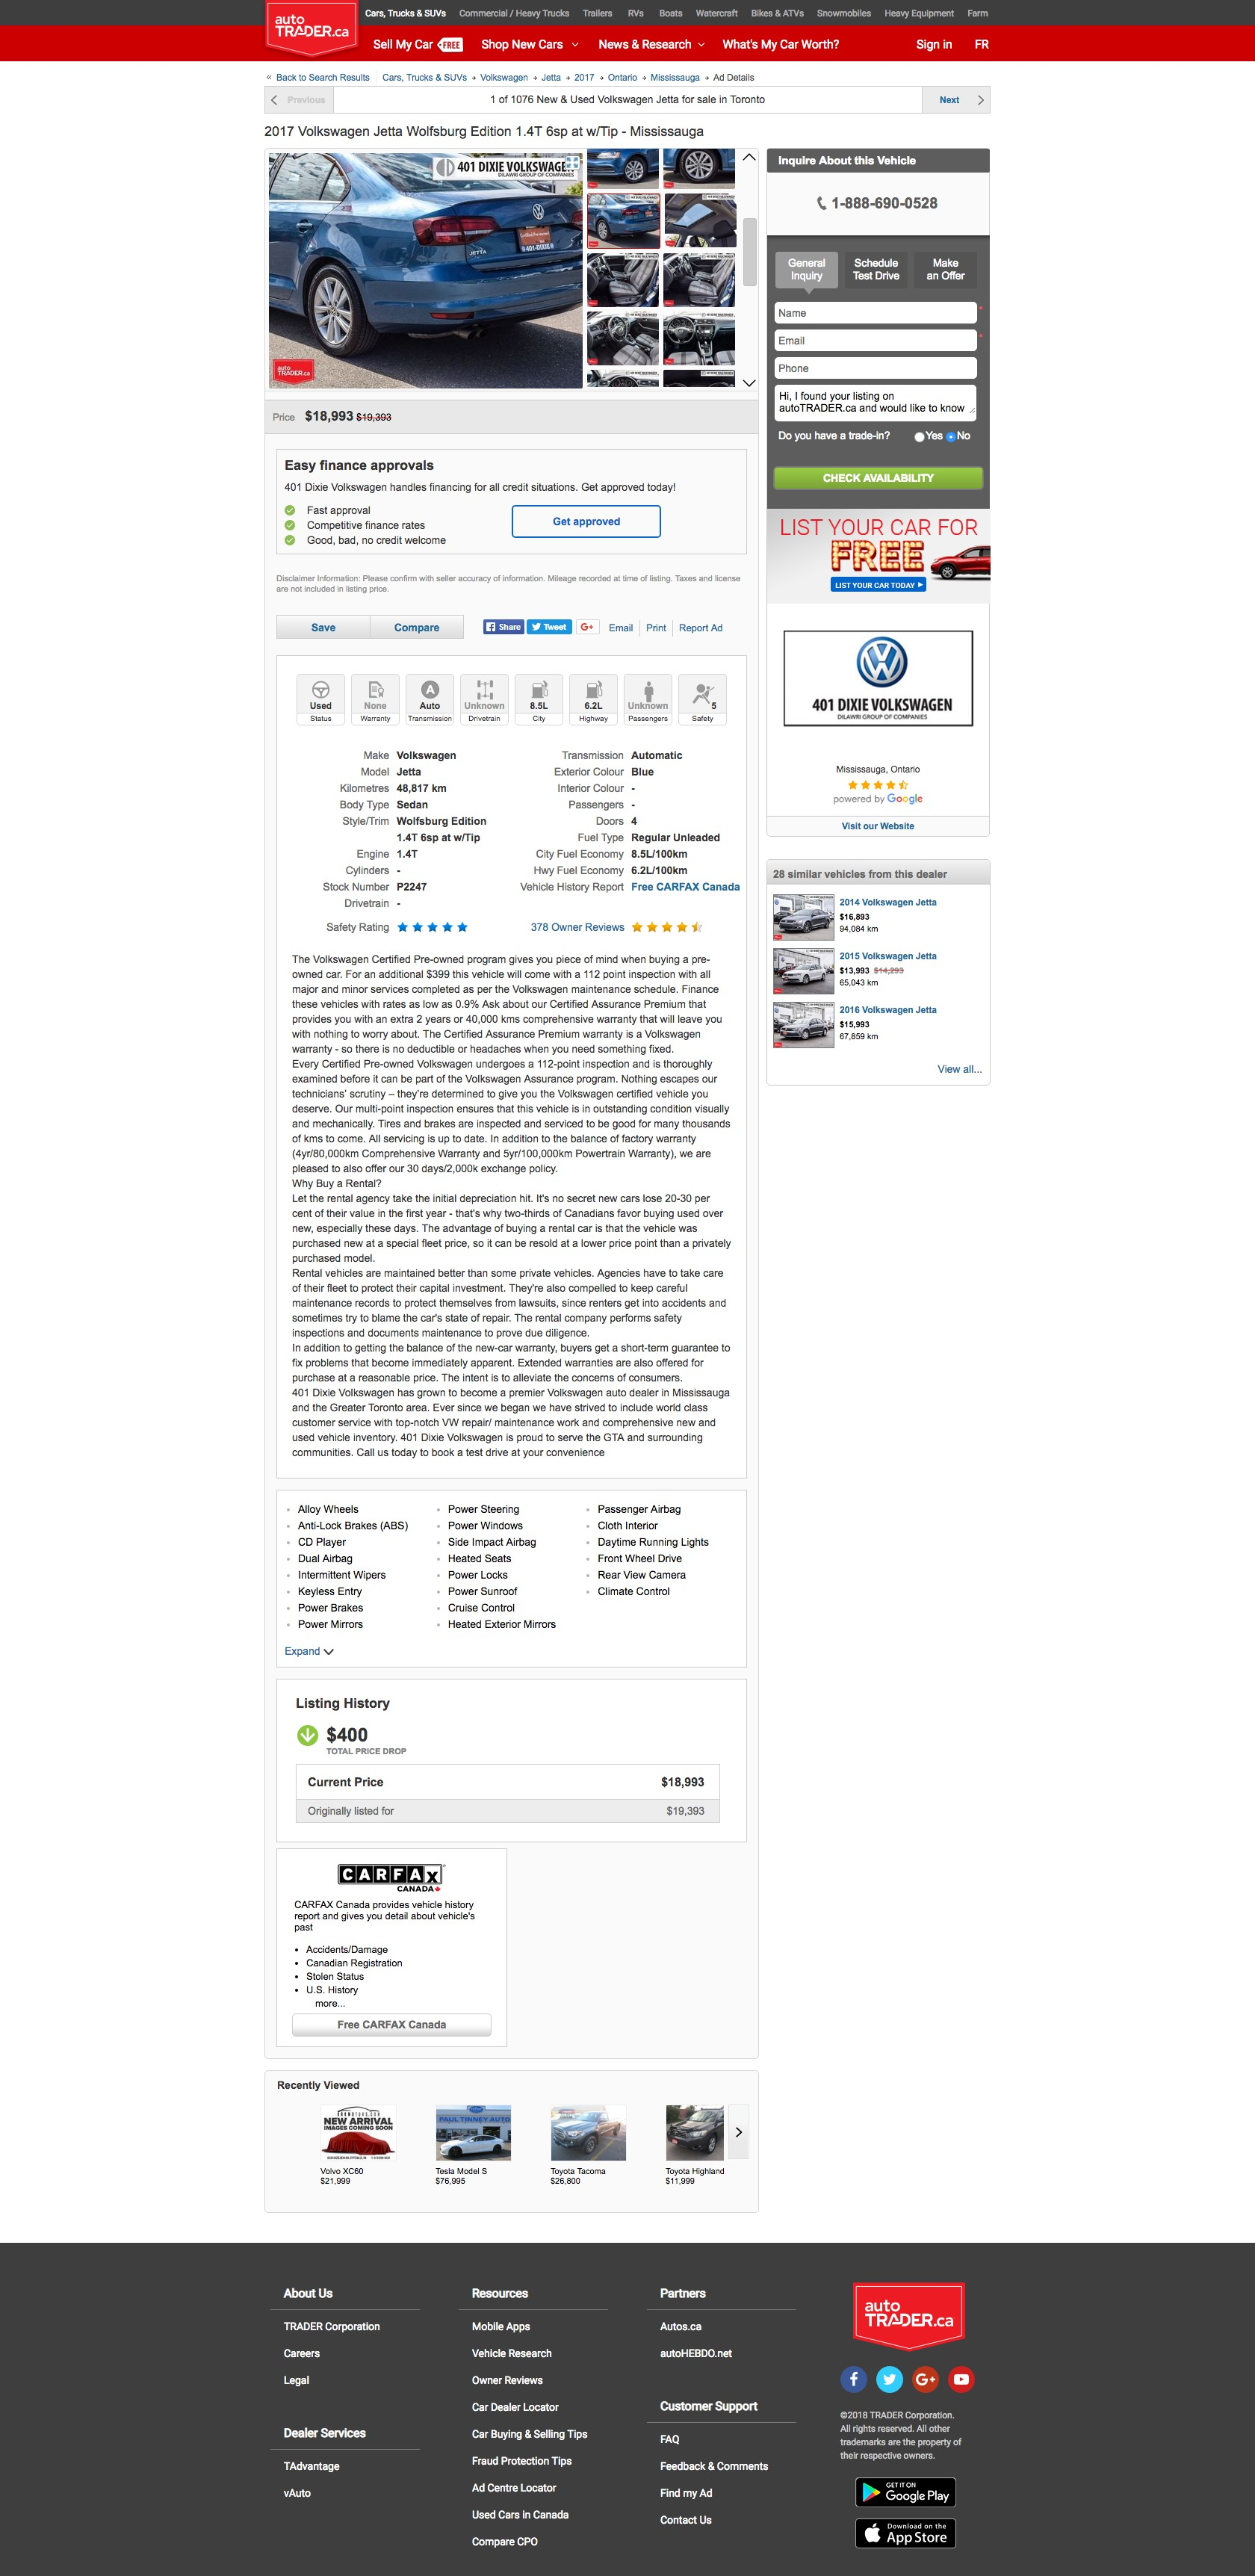car: (742, 378, 759, 391)
